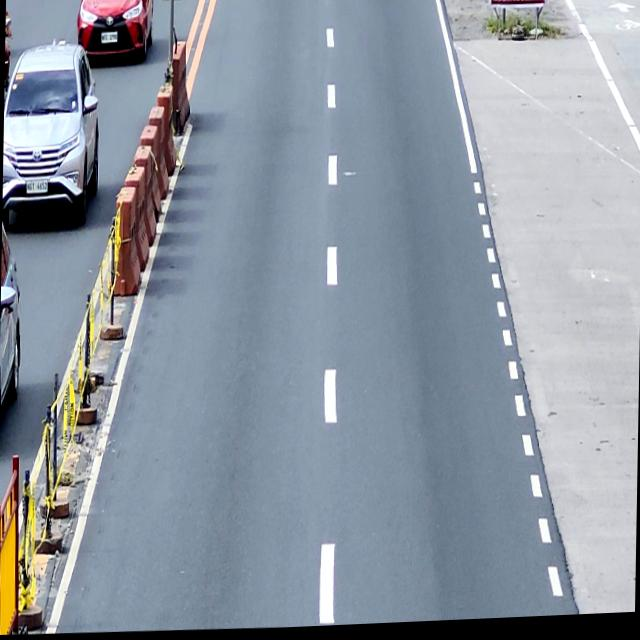Car: (1, 35, 100, 230), (74, 0, 153, 67), (0, 220, 22, 419)
License-Plate: (98, 25, 120, 50), (25, 175, 49, 197)
